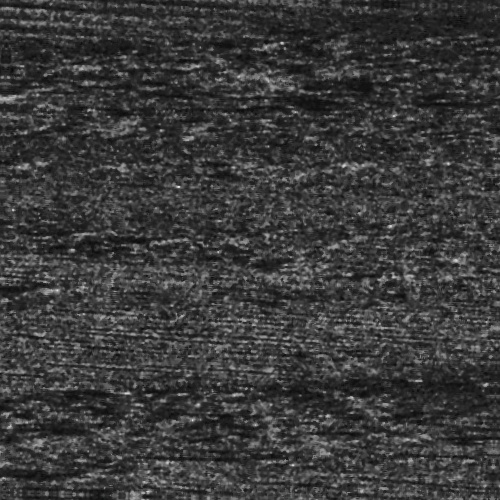object: (135, 490, 176, 495)
shadow: (155, 455, 269, 460), (44, 490, 155, 495)
